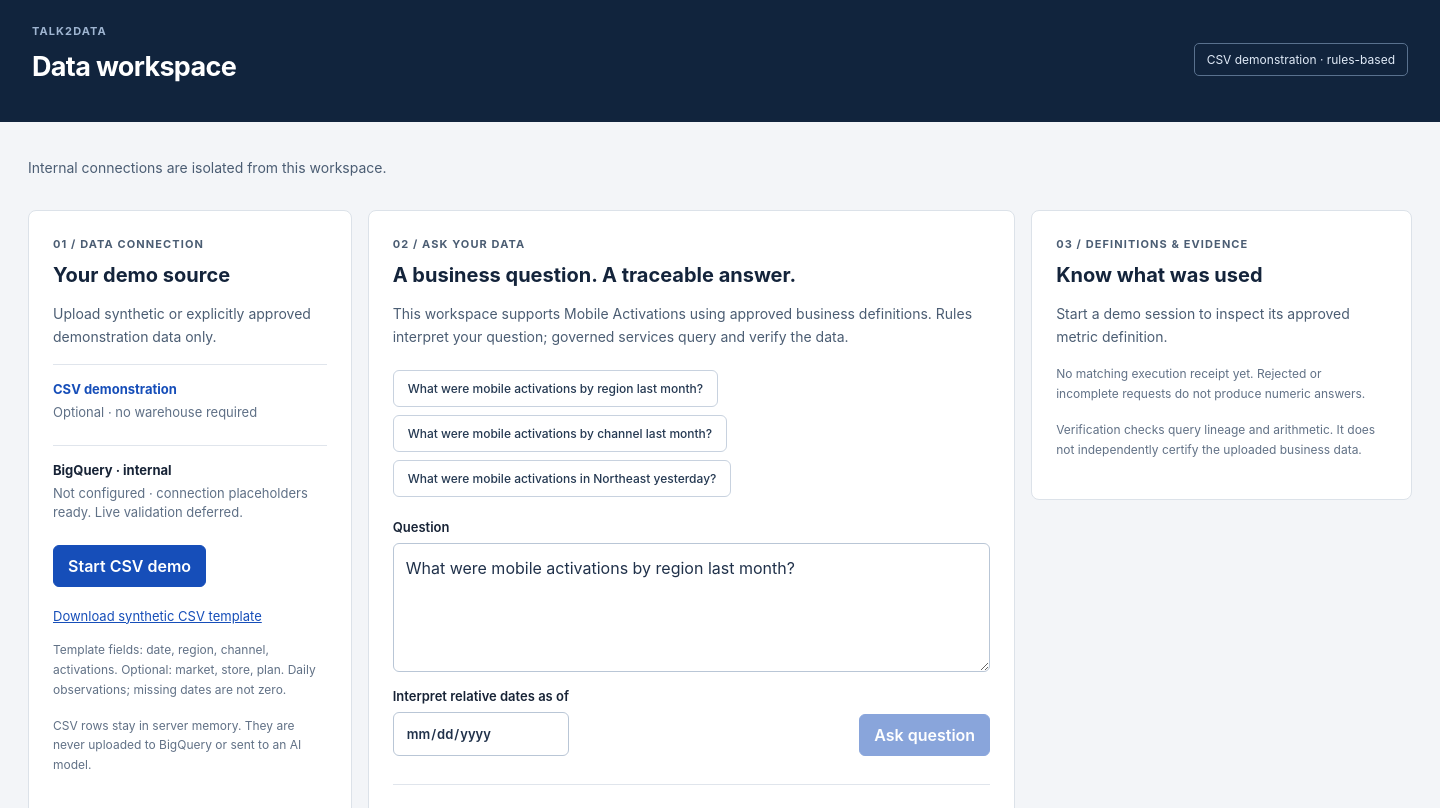
keeps source operations disabled while a submitted question is unresolved
Click the button "Start CSV demo" at (130, 566), box [53,545,206,587]
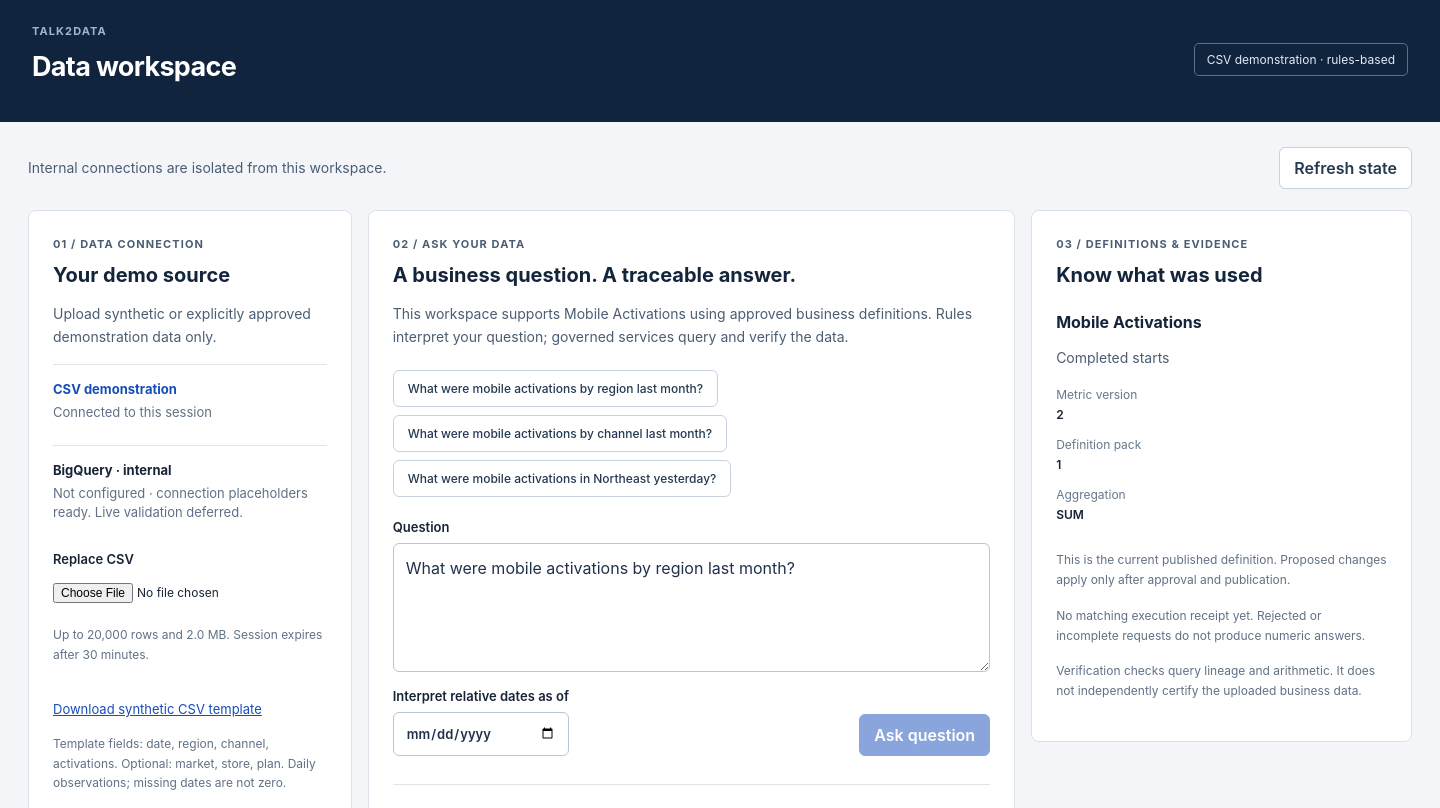
Type "2026-08-01" into the date field labelled "Interpret relative dates as of" at (481, 734), box [393,712,569,756]
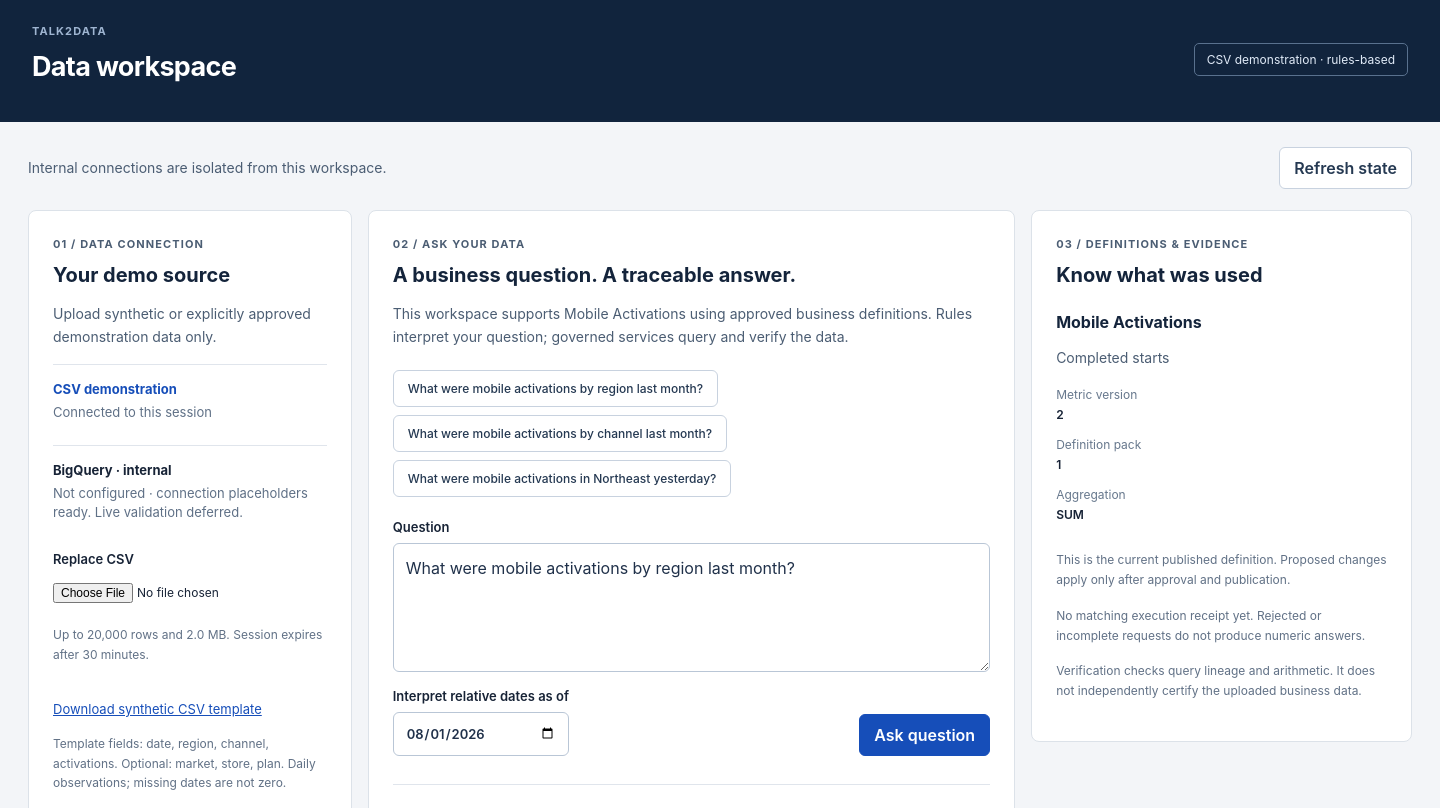
Replace the text in the text box labelled "Question" with "Mobile activations last month?" at (691, 607), box [393,543,990,672]
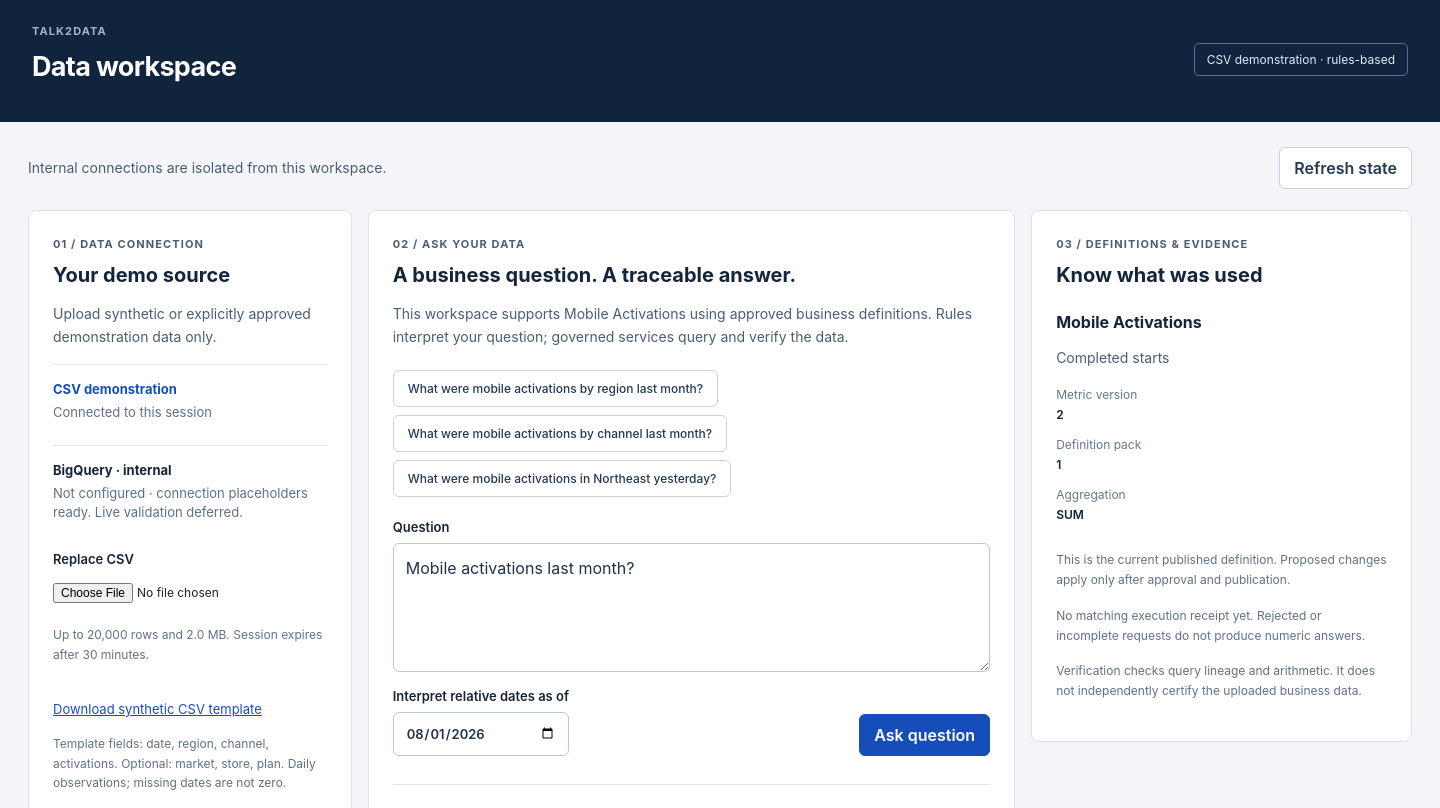
Submit the form, box [393,519,990,756]
(page scrolled)
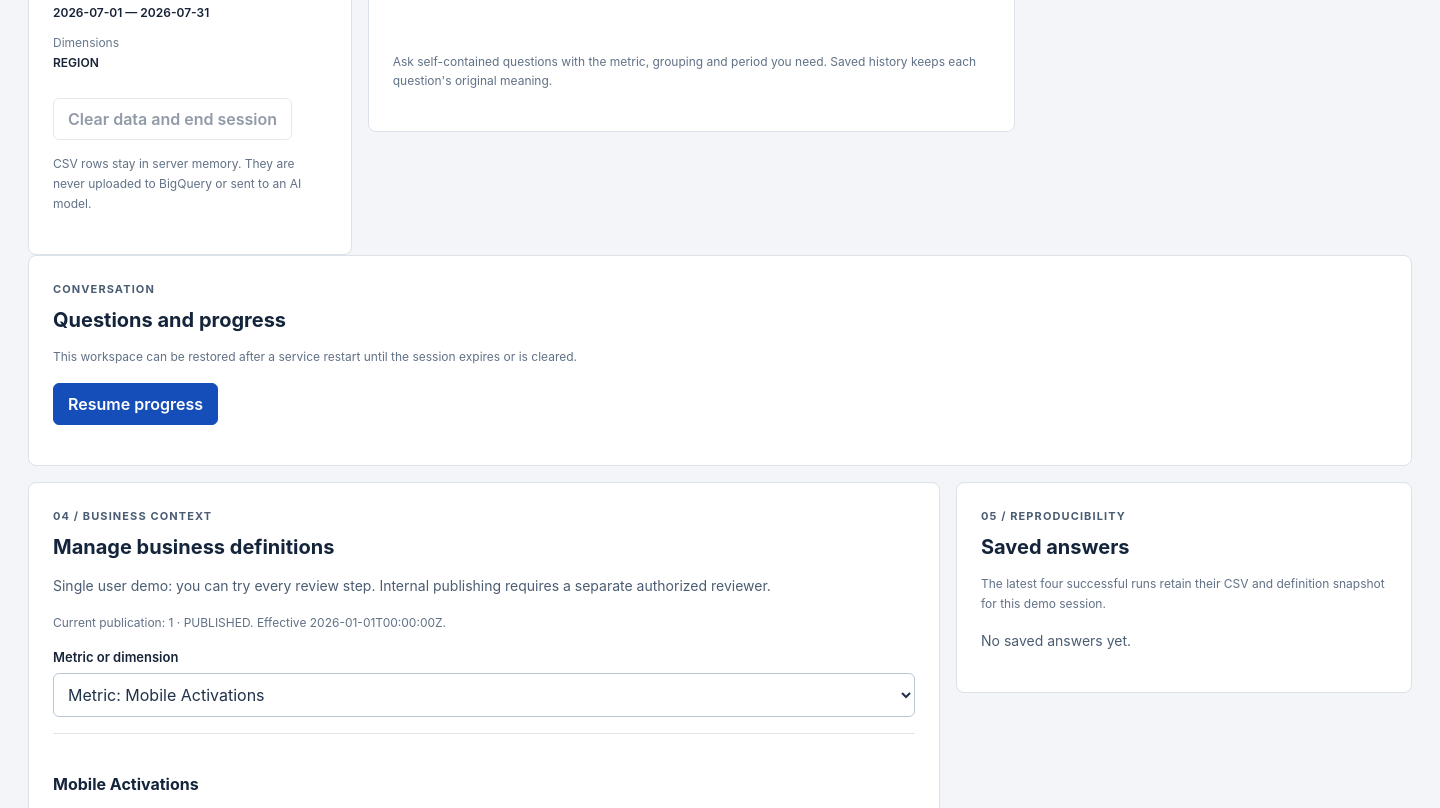
Result: the button "Resume progress" is shown at [53,383,218,425]
